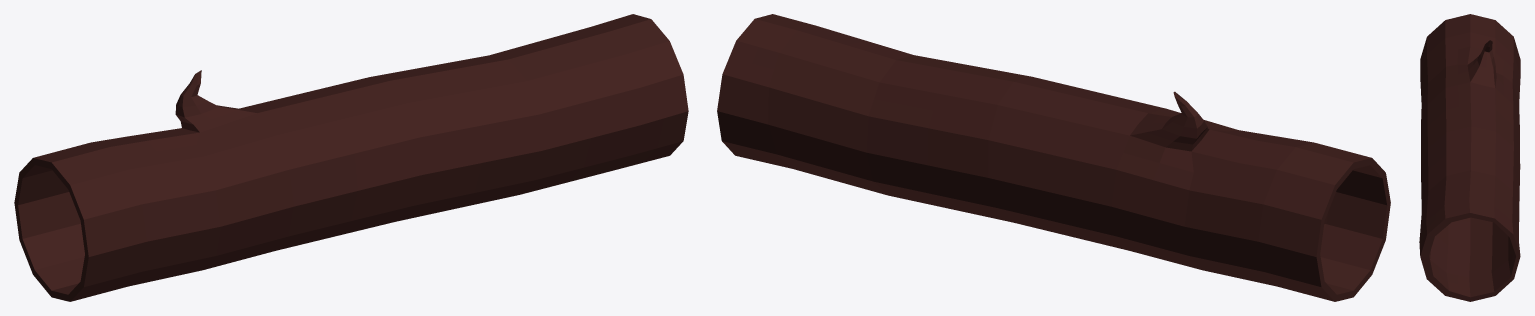
The model's file is Trunk.fbx.
3 renders of one model, left to right at view 1: azimuth 30°, elevation 25°; view 2: azimuth 150°, elevation 25°; view 3: azimuth 270°, elevation 25°, orthographic. The views are drawn at different scales.
Visible parts, largest first — view 1: Trunk; view 2: Trunk; view 3: Trunk.
Part boxes in pixels (bbox=[...]): Trunk: bbox=[14, 14, 688, 301]; Trunk: bbox=[717, 14, 1390, 301]; Trunk: bbox=[1419, 14, 1520, 301].
Bounding box in the file's own units: 931 × 266 × 202.
